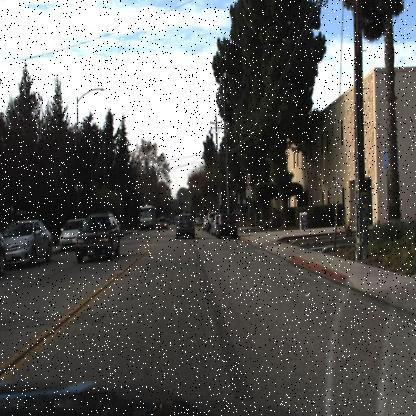car: (0, 219, 54, 266), (74, 214, 122, 261), (214, 212, 239, 240), (176, 213, 197, 239)
truck: (138, 204, 158, 233)
